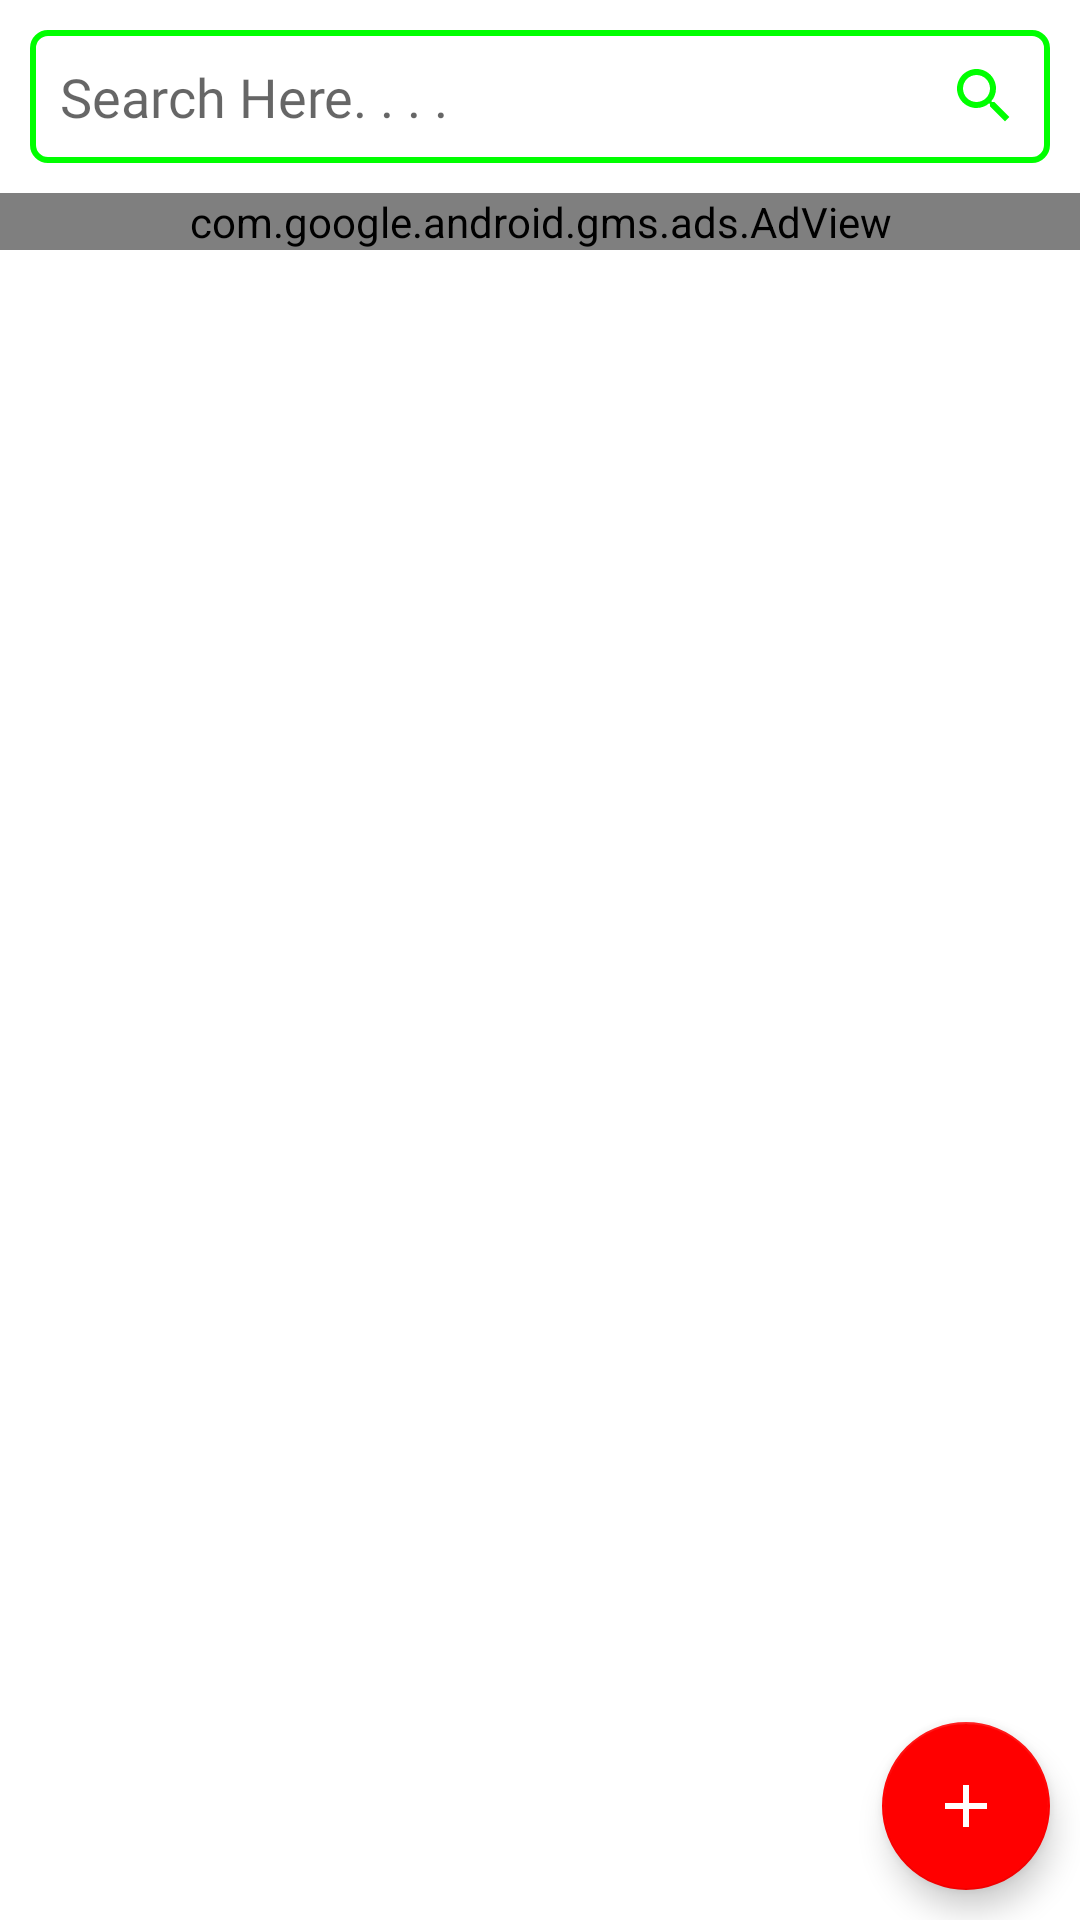

Named icons in this screenshot (1080px×1920px) and their bounding boxes, (x1, y1, x2, y2):
Add Product: (882, 1722, 1050, 1890)
